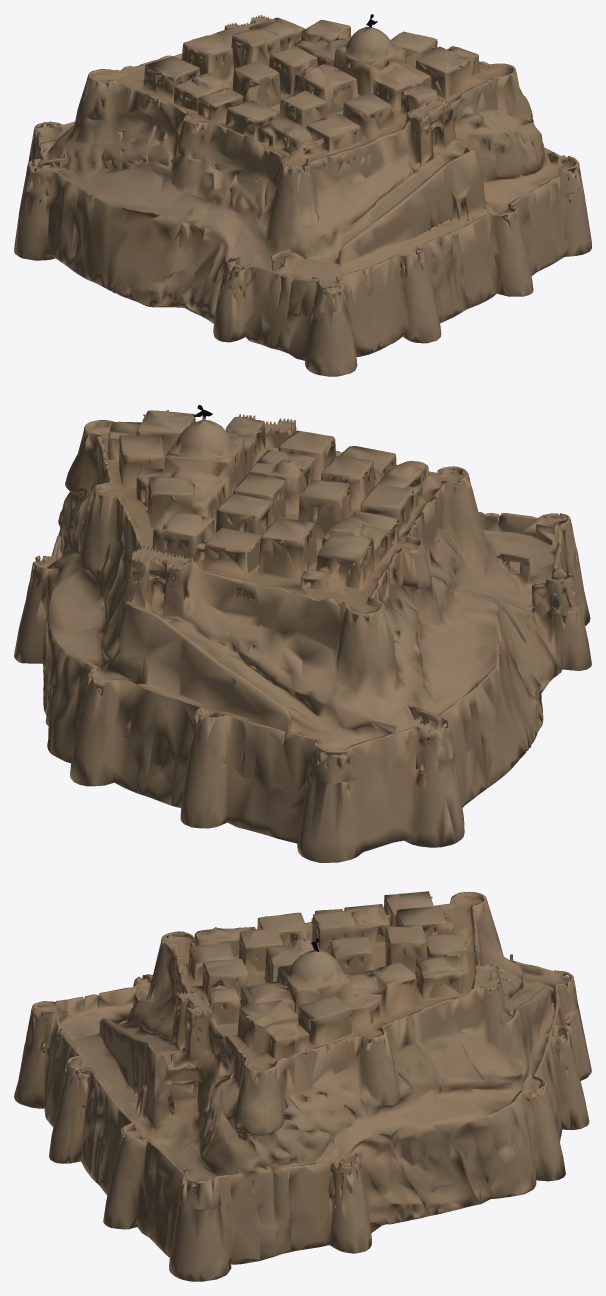
The model's file is ark_qalasi.glb.
3 renders of one model, top to bottom at view 1: azimuth 30°, elevation 25°; view 2: azimuth 150°, elevation 25°; view 3: azimuth 270°, elevation 25°, orthographic. The views are drawn at different scales.
Visible parts, largest first — view 1: tripo_node_795704b5-4654-4b0c-bdca-adf1f86da563; view 2: tripo_node_795704b5-4654-4b0c-bdca-adf1f86da563; view 3: tripo_node_795704b5-4654-4b0c-bdca-adf1f86da563.
Part boxes in pixels (<box>): tripo_node_795704b5-4654-4b0c-bdca-adf1f86da563: <box>14,14,591,376</box>; tripo_node_795704b5-4654-4b0c-bdca-adf1f86da563: <box>14,405,591,862</box>; tripo_node_795704b5-4654-4b0c-bdca-adf1f86da563: <box>14,891,591,1281</box>.
Size of the model in its own units: 0.9714 by 0.4762 by 0.9802.
Materials: 1 (1 with a texture image).
